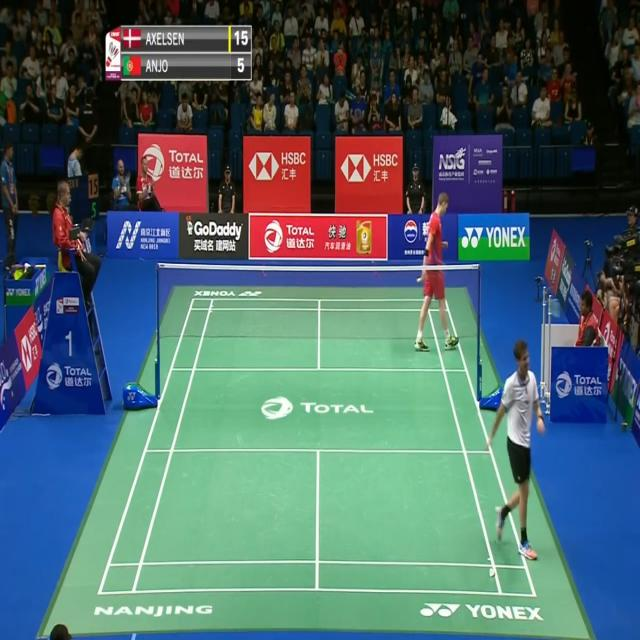Player1: (486, 341, 548, 571)
Player2: (415, 190, 465, 363)
